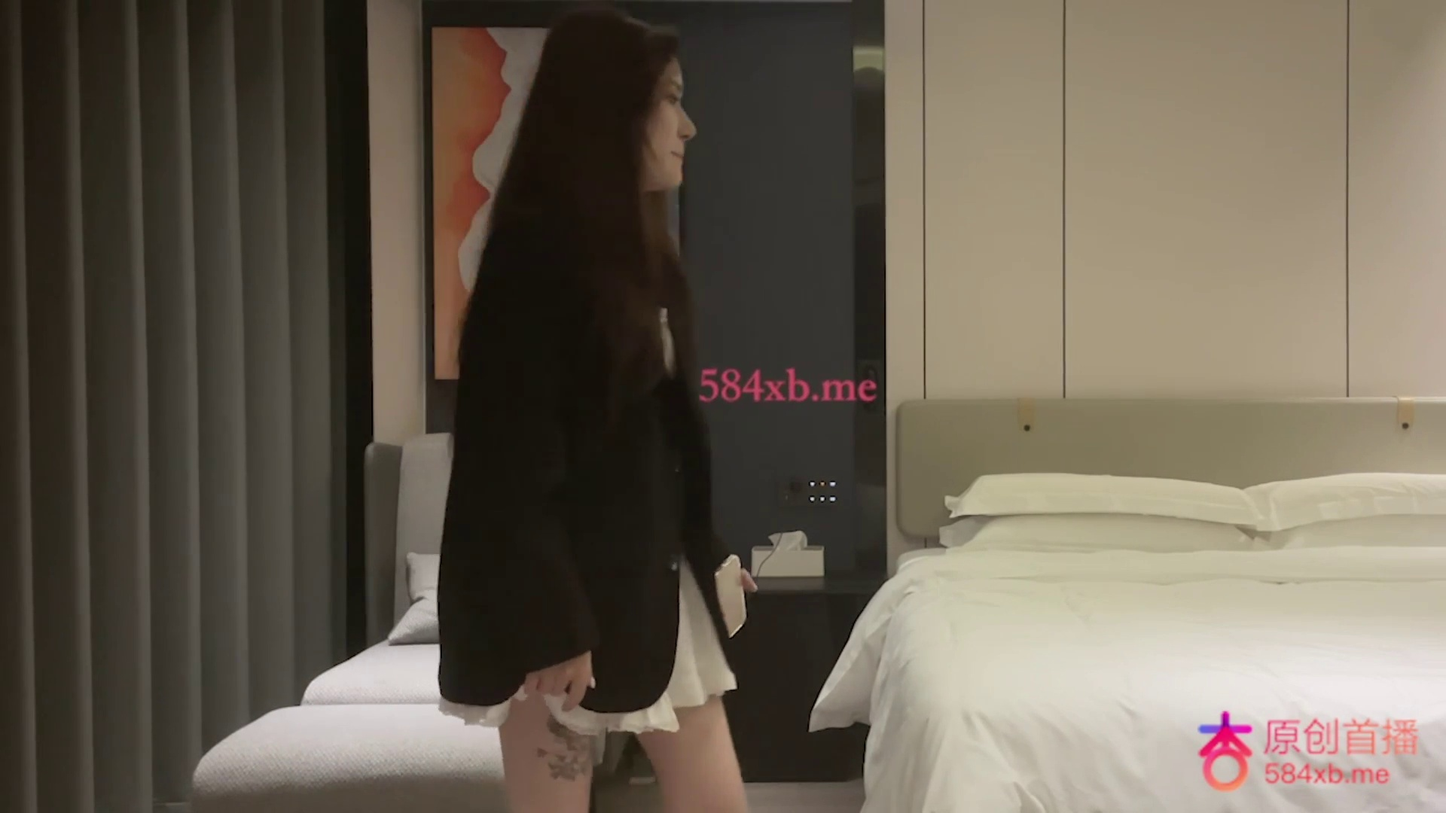stand: (434, 6, 751, 811)
